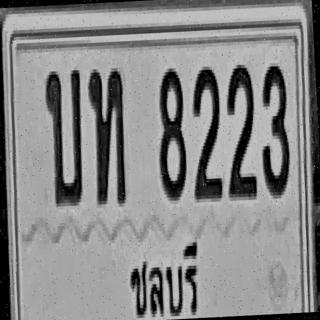A23: (81, 51, 132, 225)
A26: (38, 55, 96, 229)
N02: (214, 51, 261, 209), (187, 60, 226, 218)
N03: (254, 56, 291, 208)
N08: (152, 58, 192, 220)
P13: (118, 225, 221, 320)
